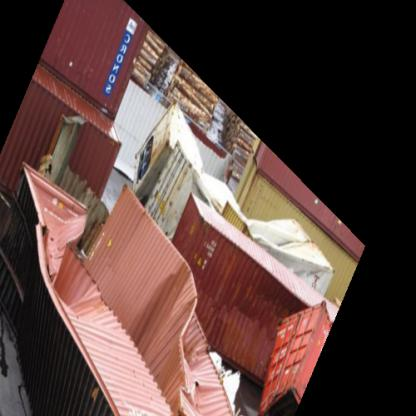Damage: (11, 165, 100, 335), (138, 253, 218, 415)
